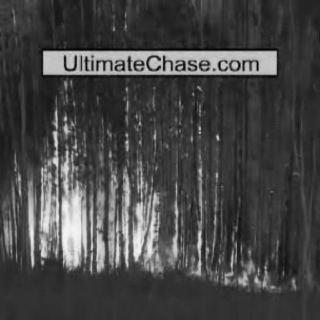Fire: (14, 88, 294, 296)
